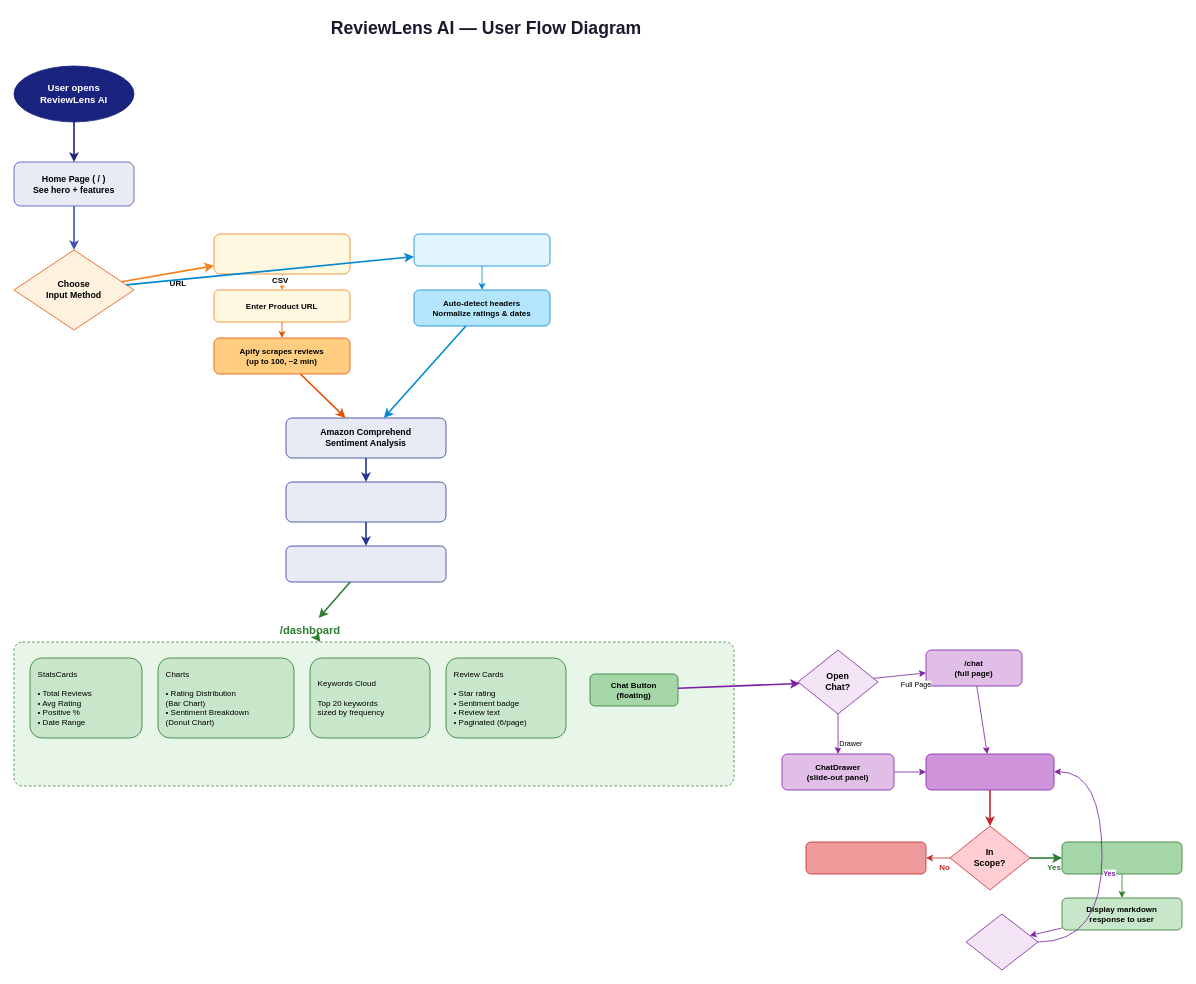
The diagram is 1196 pixels wide and 984 high, and some of its shapes have lost their labels. The centre of each missing label's shape, as x and y in pixels:
"Ask another question?" belongs at (x=1001, y=941).
"Claude streams AI response (SSE)" belongs at (x=1121, y=857).
"Compute Analytics (ratings, keywords, sentiment)" belongs at (x=365, y=501).
"Guardrail blocks response (red badge)" belongs at (x=865, y=857).
"Select Platform (Amazon / Google Maps)" belongs at (x=281, y=253).
"Store session (server + sessionStorage)" belongs at (x=365, y=563).
"Upload CSV / Paste Data" belongs at (x=481, y=249).
"User asks question about reviews" belongs at (x=989, y=771).
